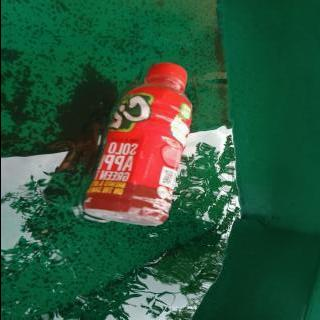bottle: (81, 62, 192, 226)
